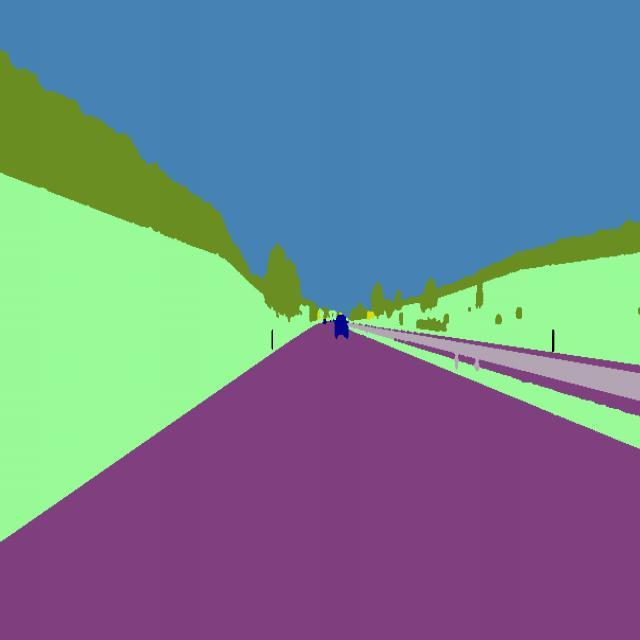safe: (328, 310, 354, 344)
